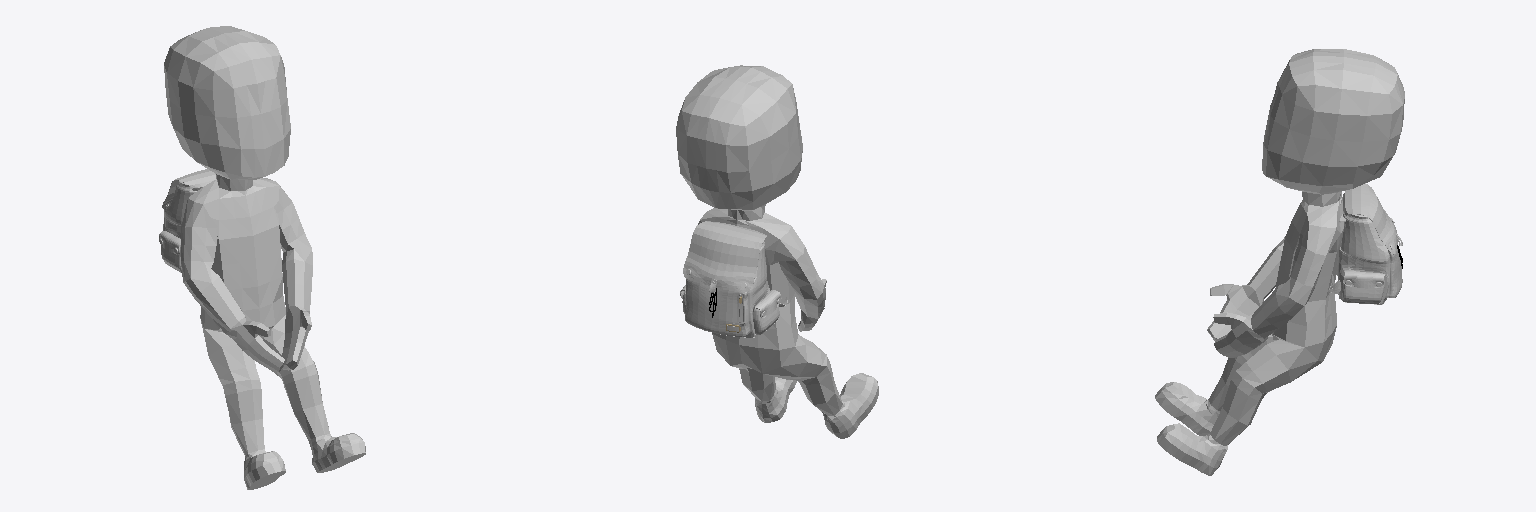
File: player_grappler.obj
3 views of the same model, side by side, from view 1: azimuth 30°, elevation 25°; view 2: azimuth 150°, elevation 25°; view 3: azimuth 270°, elevation 25° (orthographic).
Visible parts, largest first — view 1: characterMedium, Cube; view 2: characterMedium, Cube; view 3: characterMedium, Cube.
Part boxes in pixels (x1,y1,x2,y2): characterMedium: (164,26,365,489); Cube: (159,169,215,272); characterMedium: (676,65,878,438); Cube: (680,221,787,337); characterMedium: (1155,49,1404,475); Cube: (1328,183,1402,304).
Size of the model in its own units: 1.13 by 3.45 by 1.95.